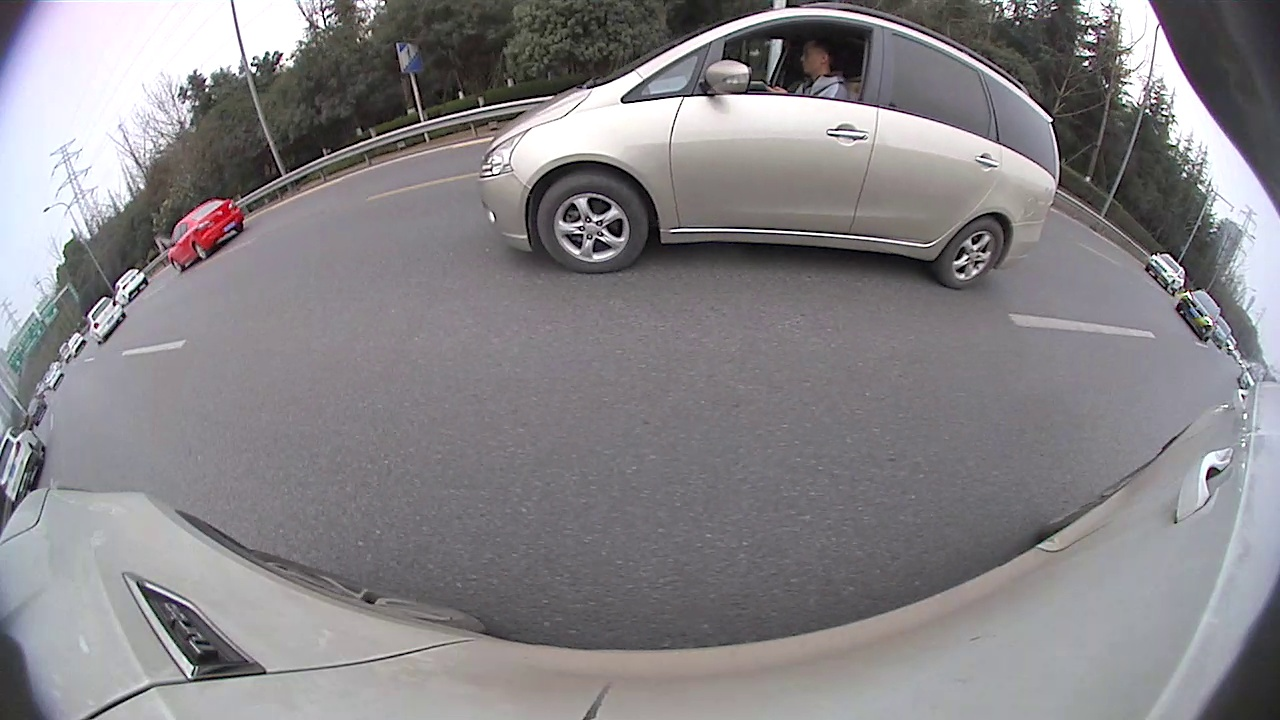car: (475, 1, 1061, 292), (166, 196, 246, 273), (0, 423, 47, 508), (1174, 288, 1222, 344), (85, 296, 128, 345), (1144, 250, 1187, 297), (112, 267, 150, 308), (1207, 314, 1233, 350)
front: (539, 177, 649, 273)
rear: (943, 222, 1003, 289)
